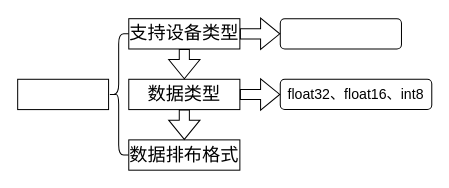
Some shapes in this 449 by 188 pixel diagram are drawn without their labels. The box of each missing label's shape, as (x1, y1, x2, y2) in pixels:
CPU、GPU、NPU: (279, 18, 401, 49)
算子选择: (17, 78, 109, 110)
